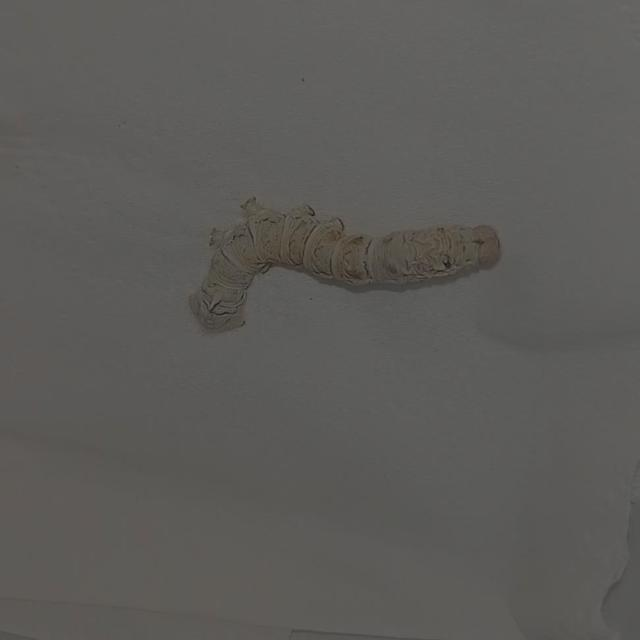Healthy: (180, 187, 506, 341)
